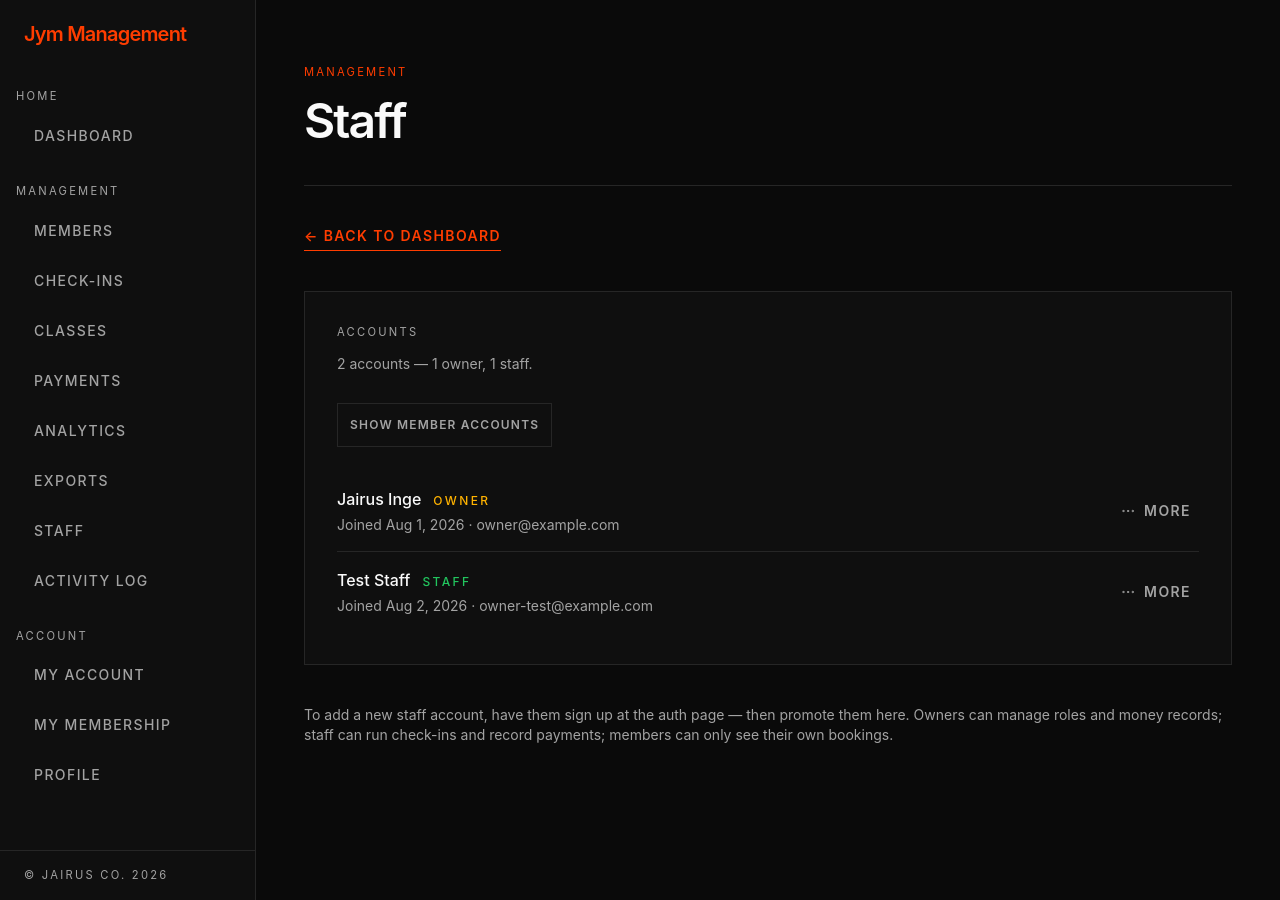
Test: StaffPage › lets the owner list accounts and change roles through confirm
expect the text "Joined Aug 1, 2026 · owner@example.com" is shown: met, box x1=337 y1=515 x2=620 y2=535
expect the text "Joined Aug 2, 2026 · owner-test@example.com" is shown: met, box x1=337 y1=596 x2=653 y2=616
Click the button "More" in the row of "Test Staff" at (1156, 592), box x1=1112 y1=574 x2=1199 y2=610
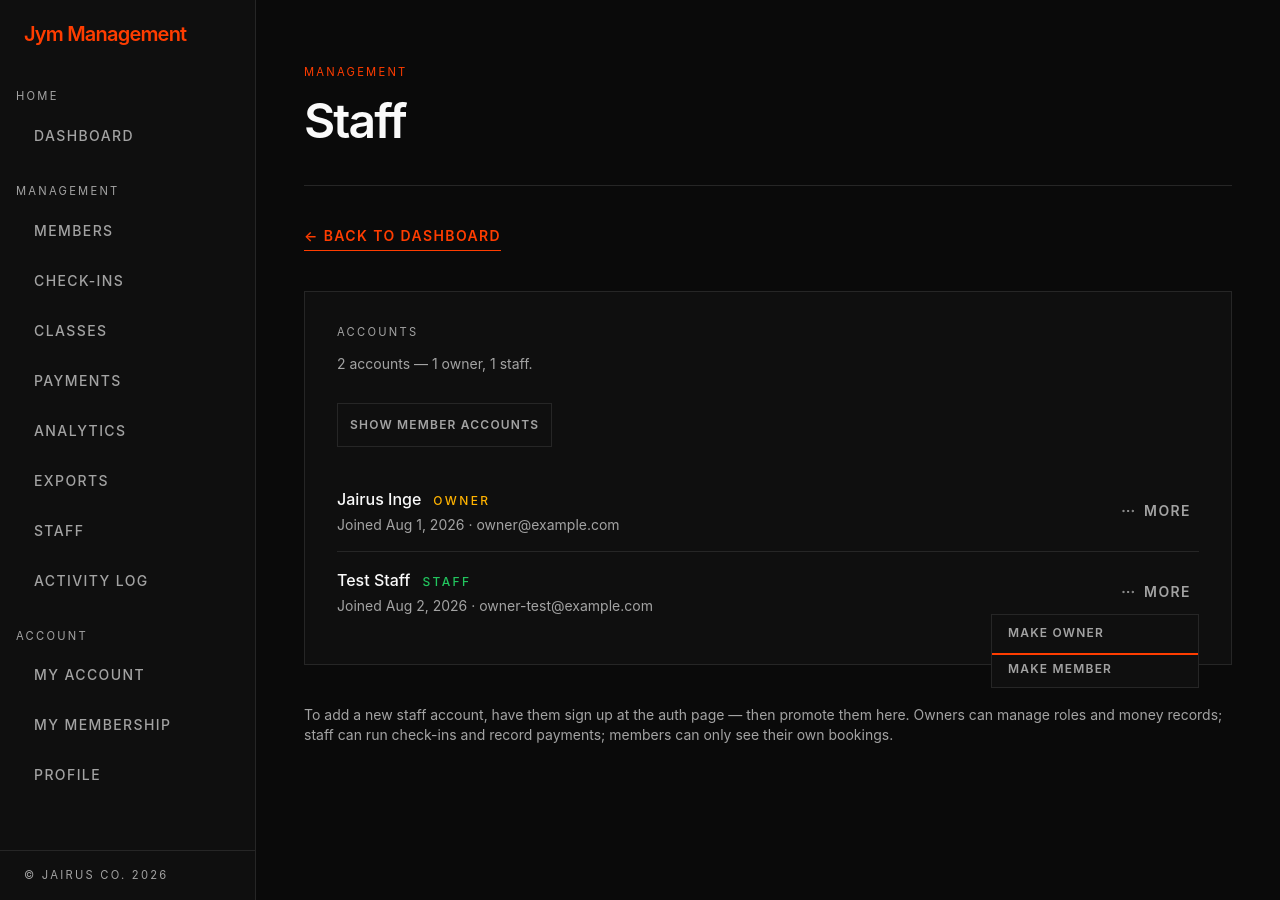
Click the menu item "Make member" at (1095, 669), box x1=992 y1=651 x2=1198 y2=687
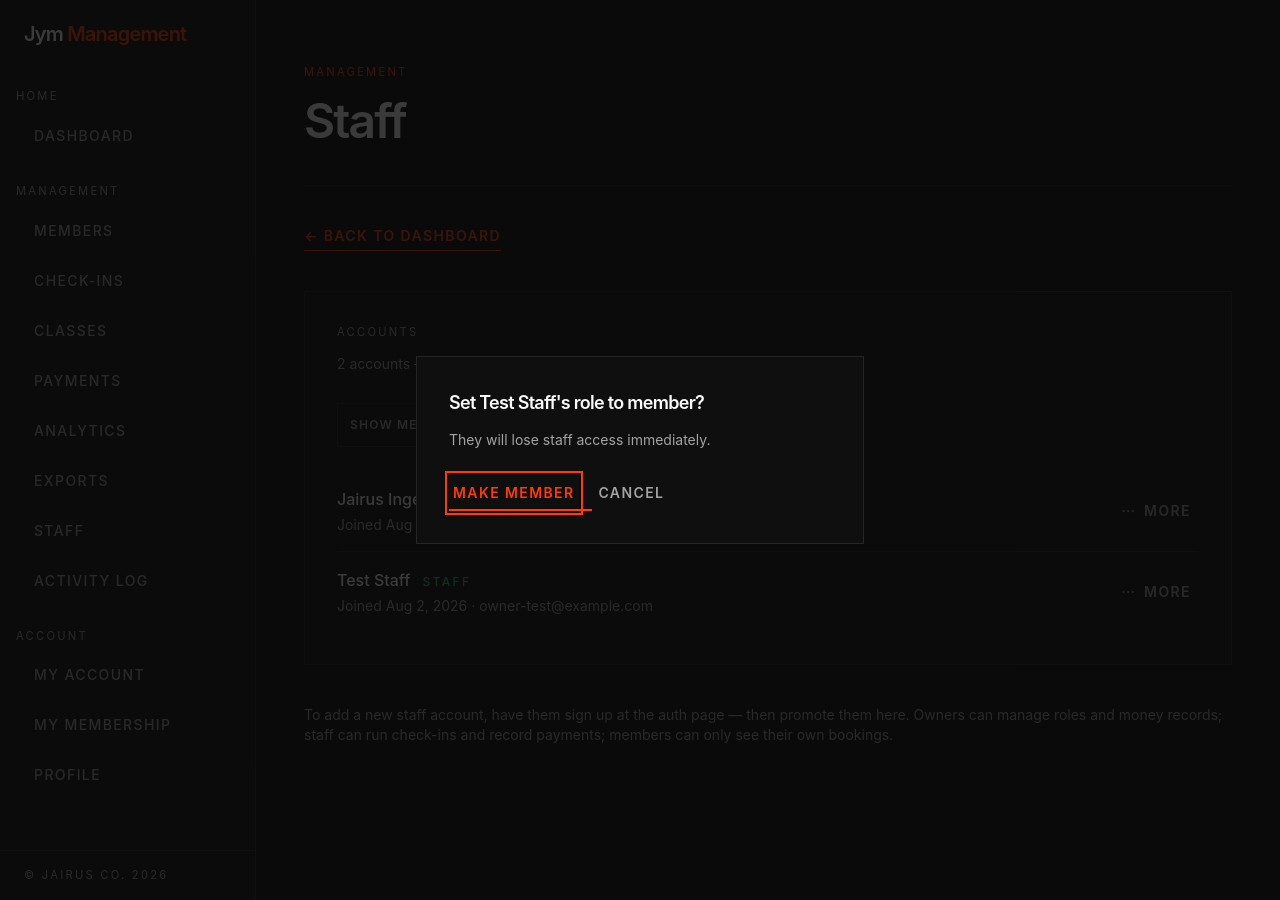
expect the text "Set Test Staff's role to member?" is shown: met, box x1=449 y1=392 x2=704 y2=413
Click the button "Make member" at (514, 493), box x1=449 y1=475 x2=578 y2=511
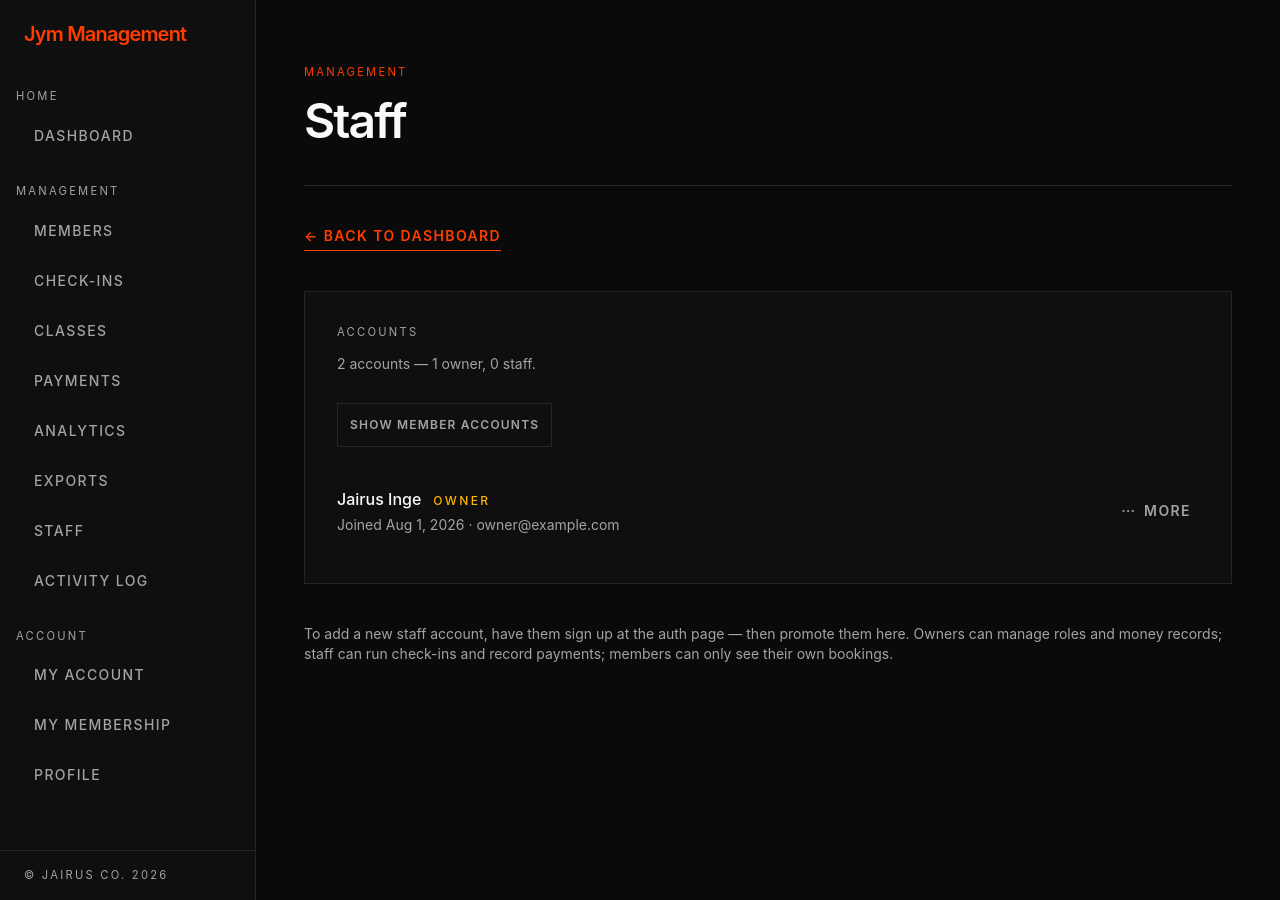
expect the dialog is gone: met
